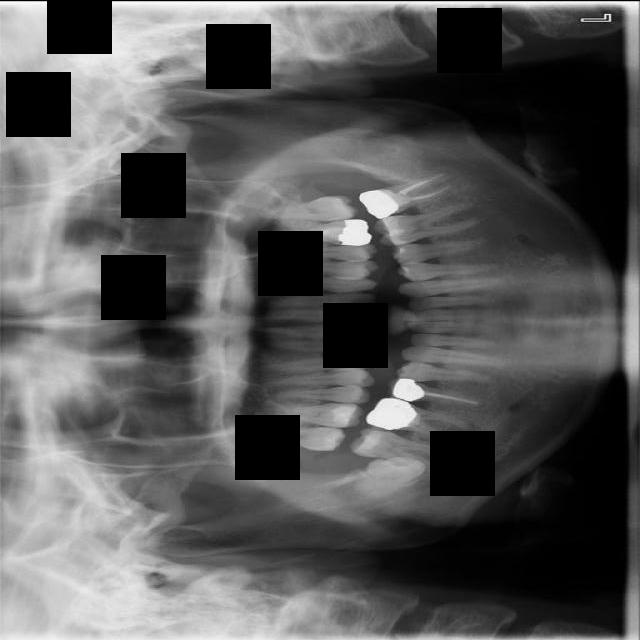52: (357, 181, 406, 224), (363, 396, 421, 430), (371, 210, 419, 249), (331, 214, 374, 250), (386, 233, 426, 270), (325, 400, 366, 429), (387, 376, 431, 403), (395, 260, 431, 283)
73: (386, 165, 457, 214), (242, 216, 340, 244), (417, 382, 484, 415), (616, 6, 632, 18)
BioHorizons Implant: (239, 193, 359, 225)
Blue Sky Bio Implant: (355, 167, 463, 224)
Caries: (240, 424, 348, 451)
Implant: (347, 421, 455, 477)
Keystone Dental Implant: (351, 451, 430, 501)
